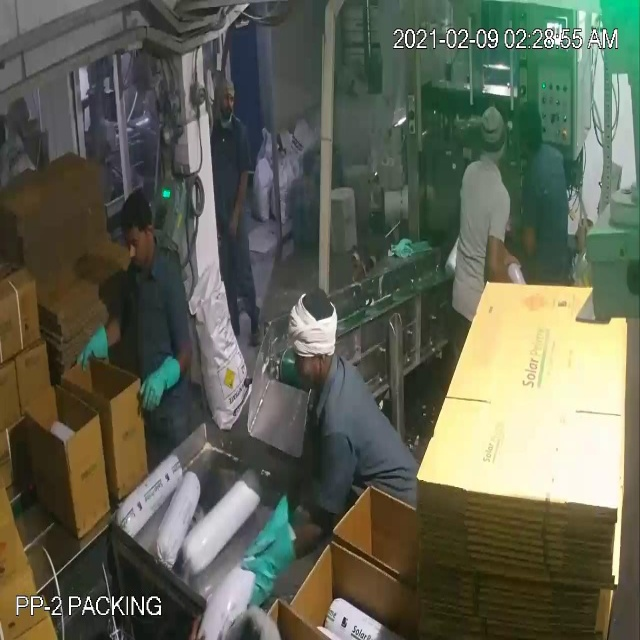Guantes: (237, 532, 298, 606), (134, 350, 193, 420), (241, 500, 296, 565), (65, 315, 117, 379)
Sin_guantes: (483, 232, 524, 293), (225, 163, 254, 243)
